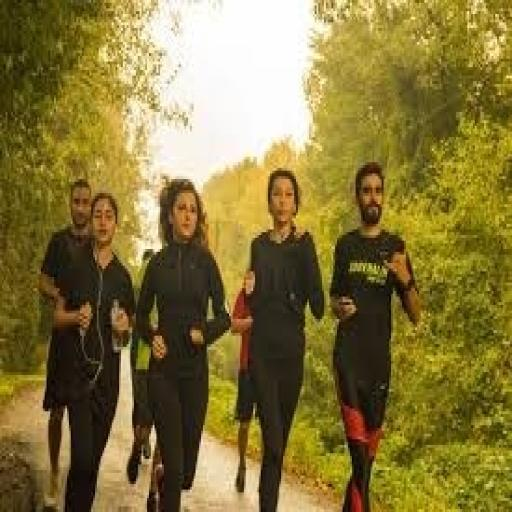running: (132, 176, 233, 509), (328, 160, 424, 509), (238, 165, 328, 509), (44, 188, 138, 509)
